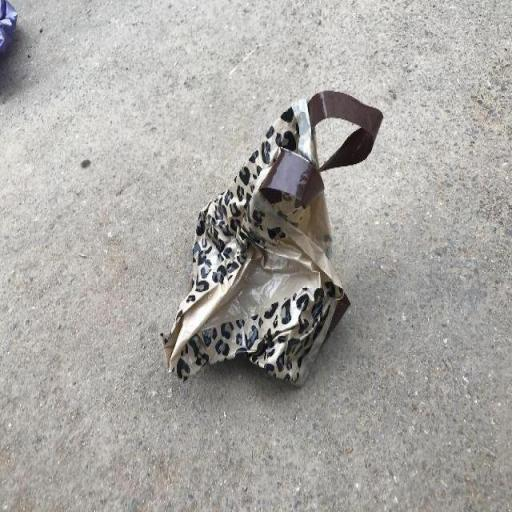plastic-bag: (158, 88, 386, 388)
